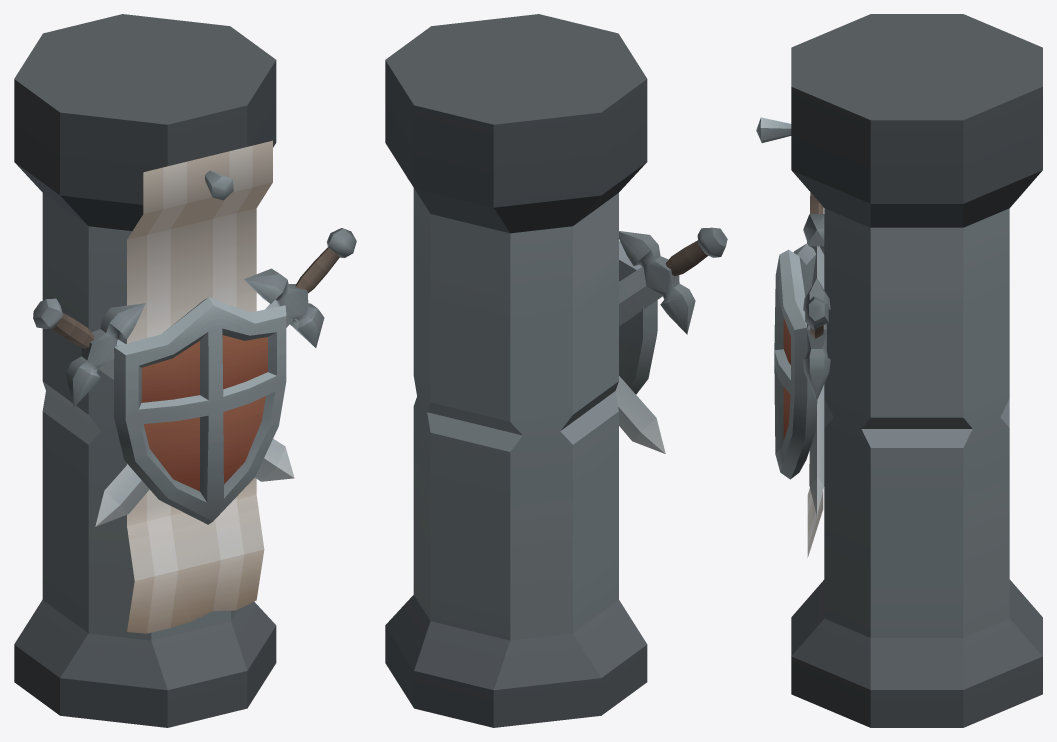
File: pillar_decorated_gltf.glb
3 renders of one model, left to right at view 1: azimuth 30°, elevation 25°; view 2: azimuth 150°, elevation 25°; view 3: azimuth 270°, elevation 25°, orthographic.
Parts seen in each view (by area): view 1: pillar_decorated; view 2: pillar_decorated; view 3: pillar_decorated.
Boxes of the visible parts, x1,y1,x2,y2 form: pillar_decorated: [14, 14, 356, 727]; pillar_decorated: [385, 14, 727, 727]; pillar_decorated: [756, 14, 1042, 727].
Bounding box in the file's own units: 2.23 × 4 × 1.71.
Materials: 1 (1 with a texture image).
